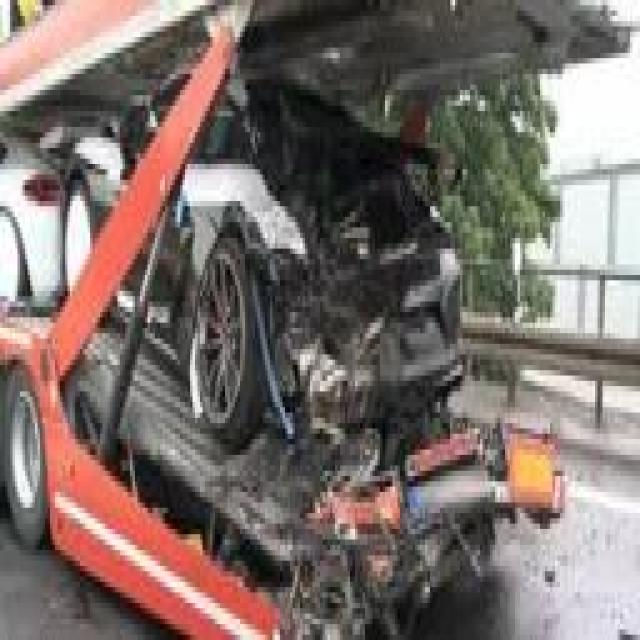Bumper: (290, 254, 475, 407)
Dickey: (270, 138, 458, 254)
Fender: (230, 190, 322, 402)
